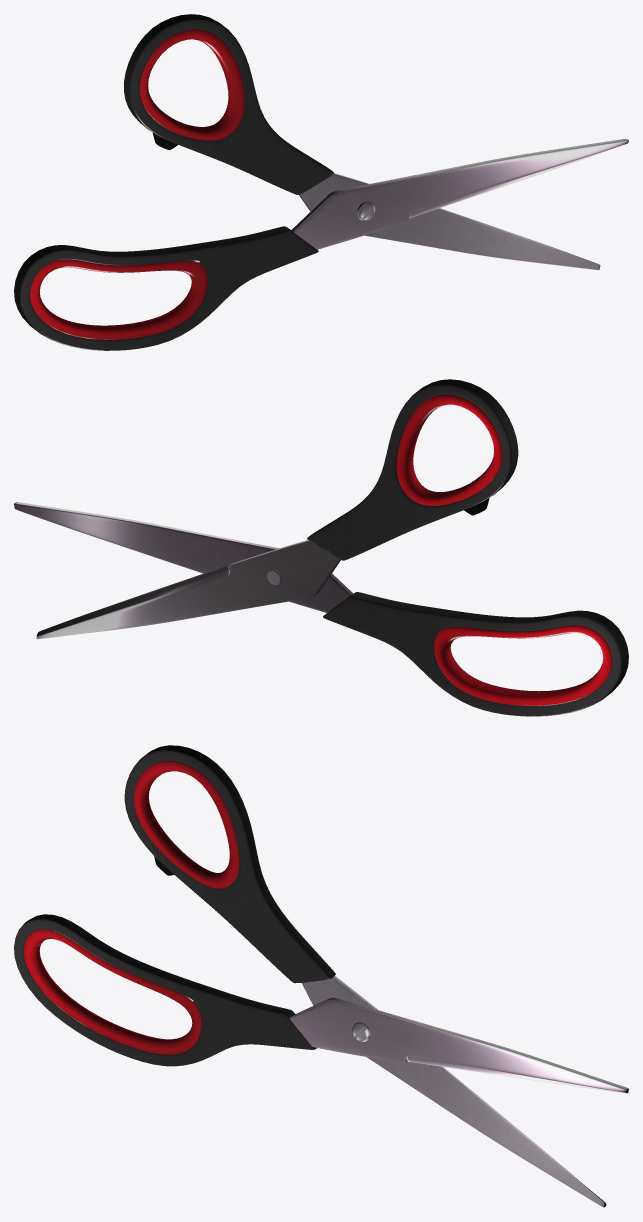
File: 10312_Shears_V2_max2011_iteration-2.obj
3 views of the same model, one above another, from view 1: azimuth 30°, elevation 25°; view 2: azimuth 150°, elevation 25°; view 3: azimuth 330°, elevation 25° (orthographic).
Visible parts, largest first — view 1: 10312_Shears_V1; view 2: 10312_Shears_V1; view 3: 10312_Shears_V1.
Part boxes in pixels (x1=…): 10312_Shears_V1: x1=14, y1=14, x2=628, y2=350; 10312_Shears_V1: x1=14, y1=379, x2=628, y2=716; 10312_Shears_V1: x1=14, y1=745, x2=628, y2=1207.
Size of the model in its own units: 25.13 by 13.98 by 0.6914.
1 material, 1 textured.
